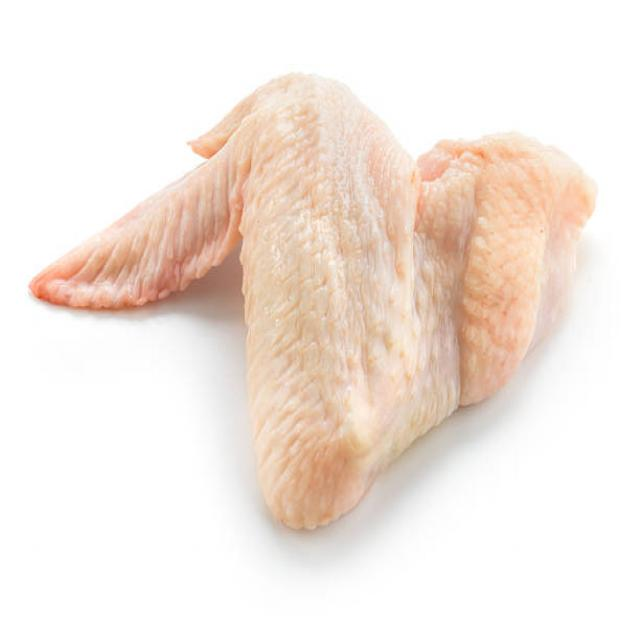Chicken: (31, 65, 600, 542)
